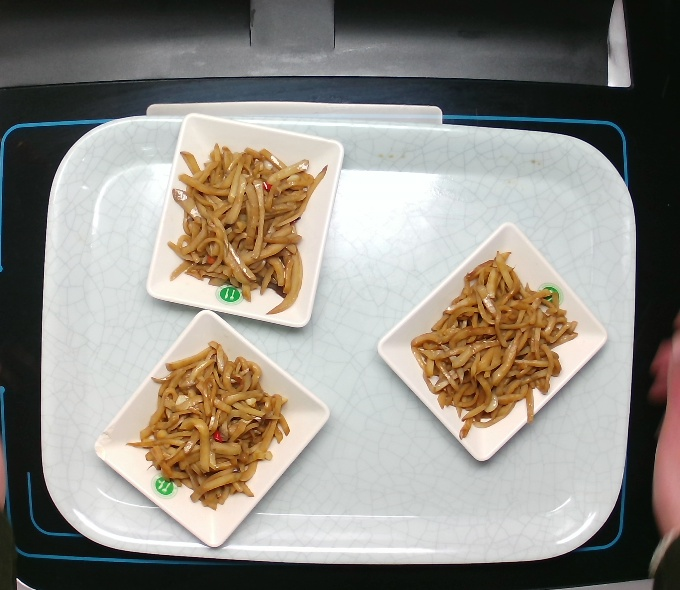wcq-LiangBanMoGu: (409, 254, 575, 429), (136, 342, 287, 512), (177, 141, 317, 296)
